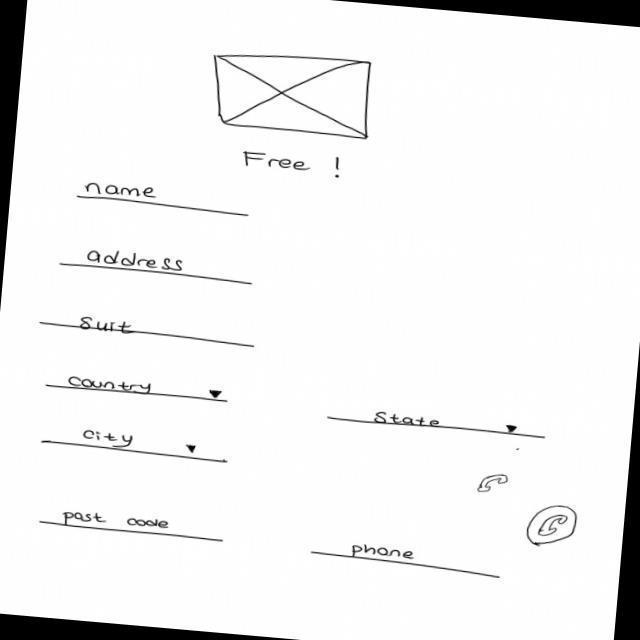icon-button: (526, 503, 582, 552)
image: (206, 47, 378, 143)
input: (37, 310, 259, 350), (57, 244, 257, 287), (308, 538, 502, 580), (36, 505, 227, 545), (76, 180, 253, 221)
label: (241, 149, 313, 173)
select: (38, 422, 232, 466), (328, 406, 550, 443), (44, 373, 232, 405)
